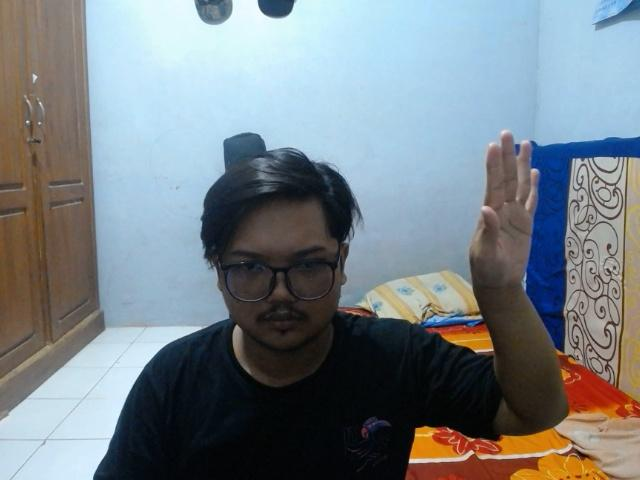Release: (462, 127, 551, 302)
